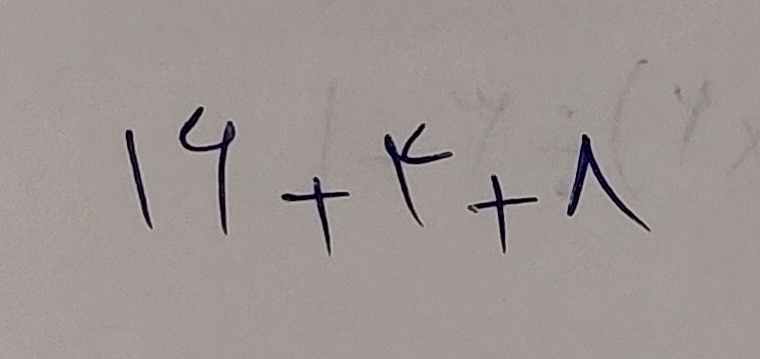character: (565, 133, 652, 231), (383, 123, 453, 229), (178, 105, 234, 234), (467, 175, 539, 254), (282, 178, 349, 255), (123, 127, 155, 228)
